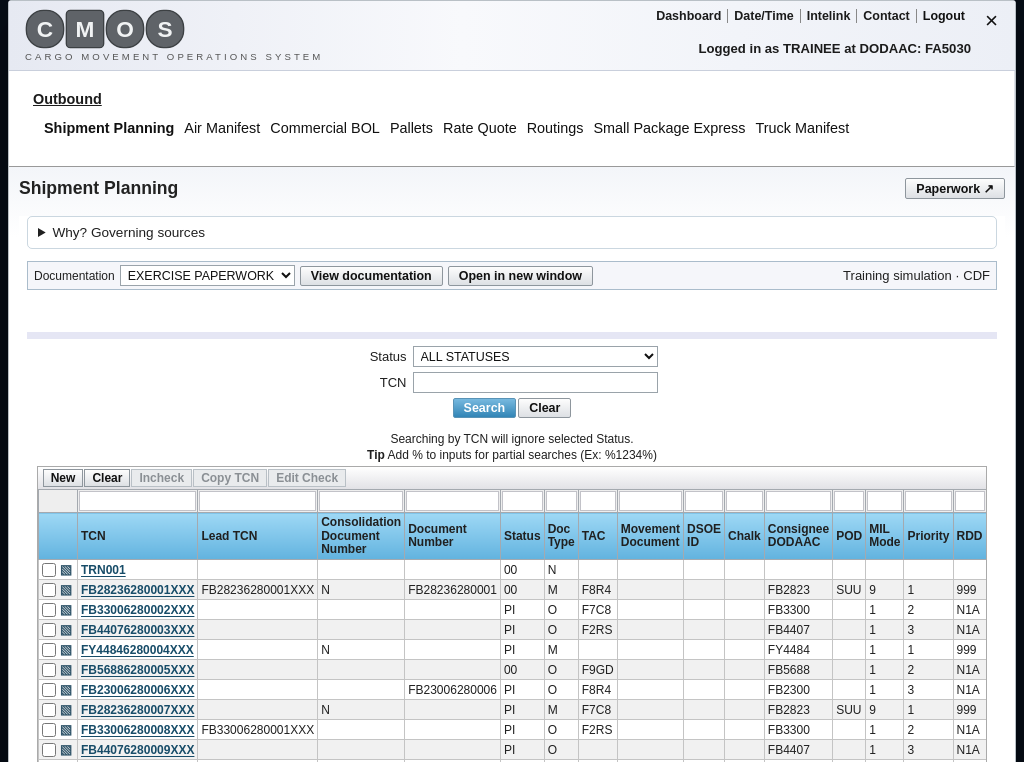
it: inchecking a fictional shipment starts with an empty Pieces grid
Click the button named "Select FB28236280001XXX": (66, 589) [58,582,74,597]
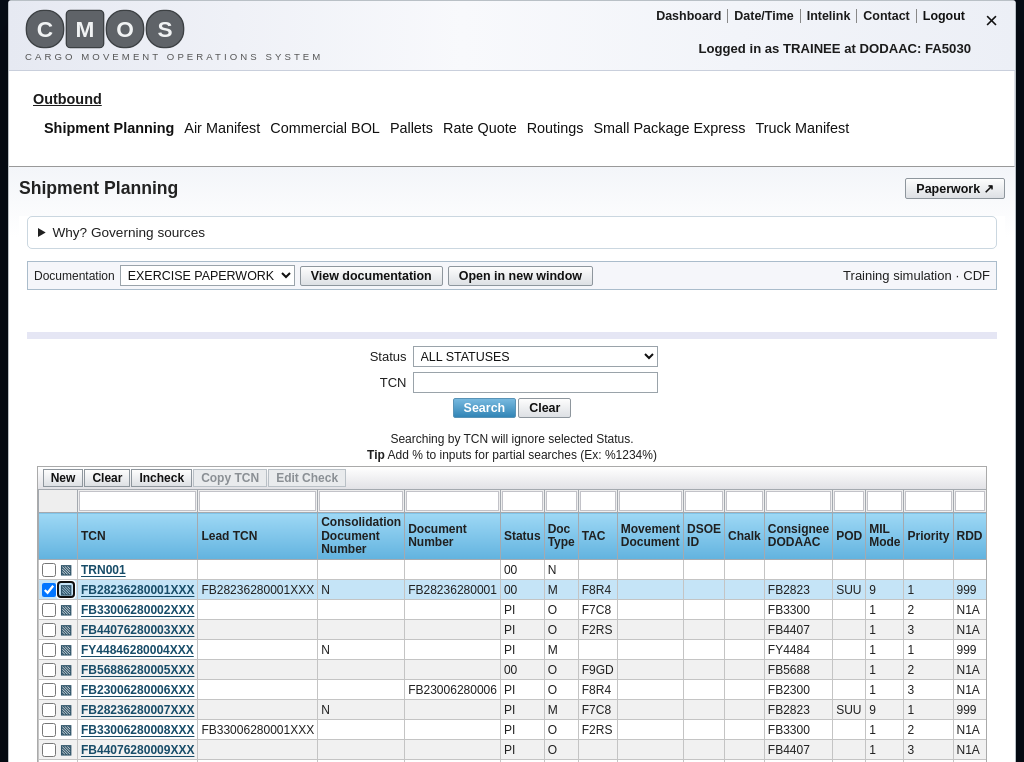
Click the button "Incheck": (162, 478) [131,470,192,488]
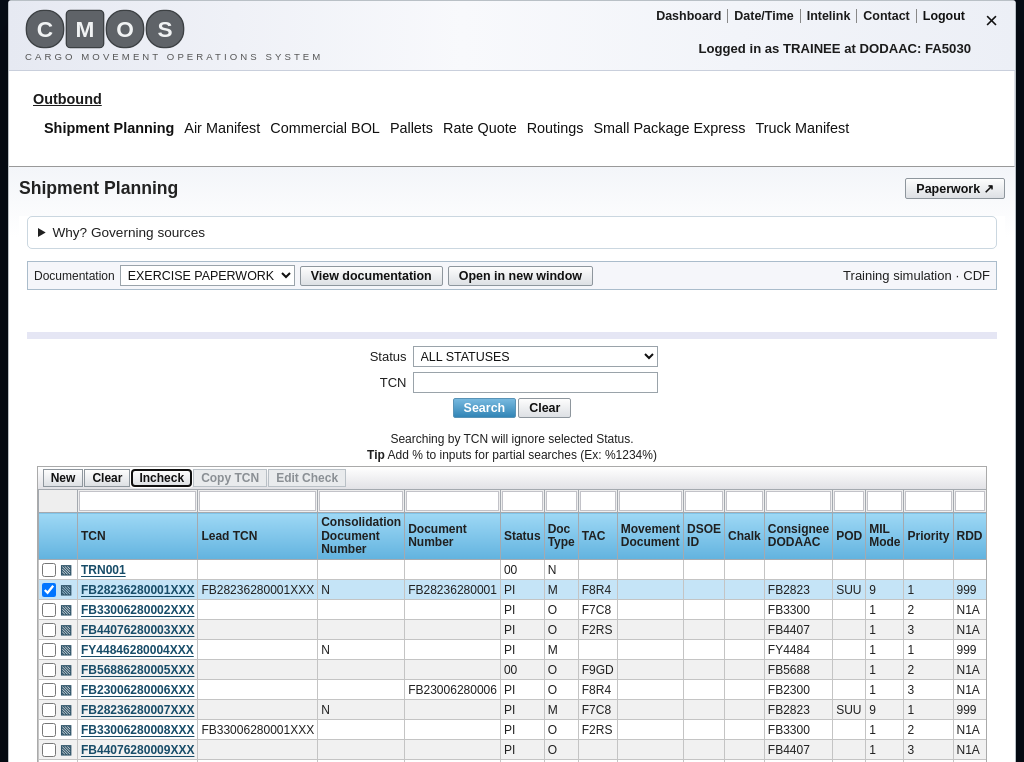
Click the button with aria-label "Open TCN ": (138, 590) [81,582,194,596]
(page scrolled)
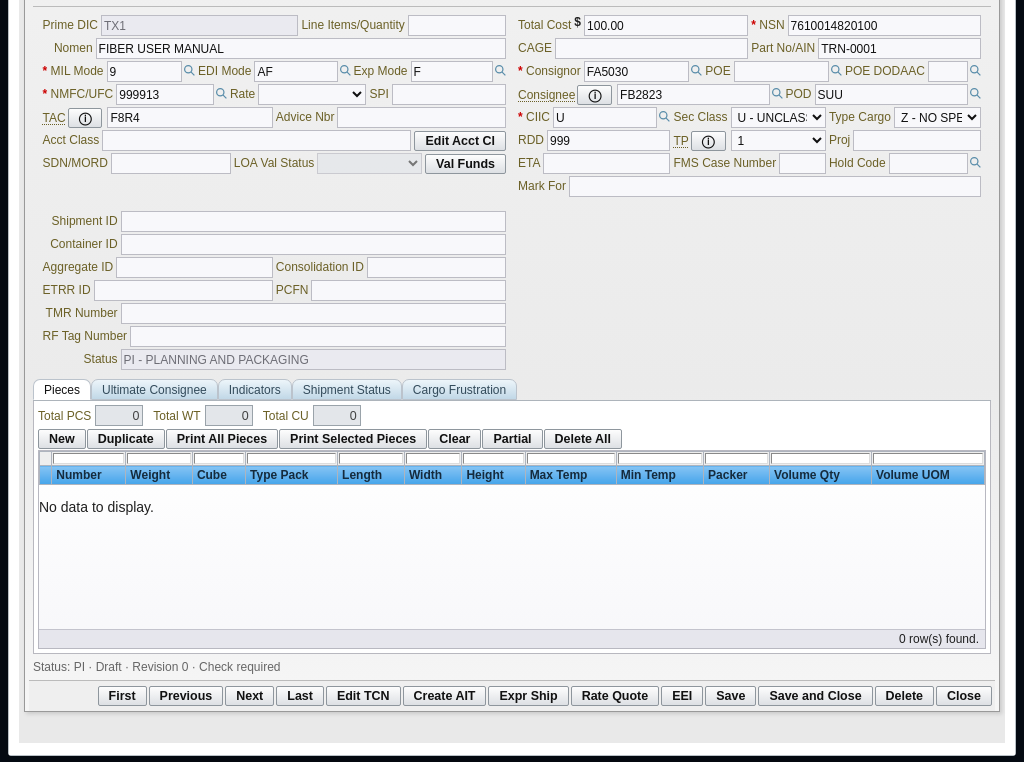
Check: the text "No data to display." is shown, box [39,499,154,515]
Check: the field labelled "Total PCS" holds "0", box [95,405,143,426]
Check: the field labelled "Total WT" holds "0", box [205,405,253,426]
